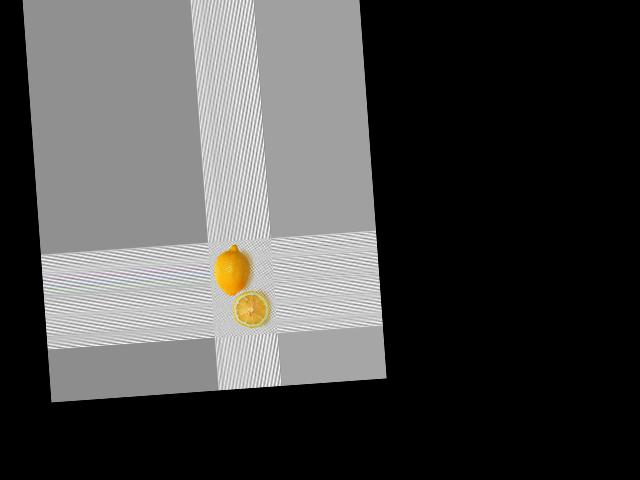lemon: (209, 244, 249, 302)
